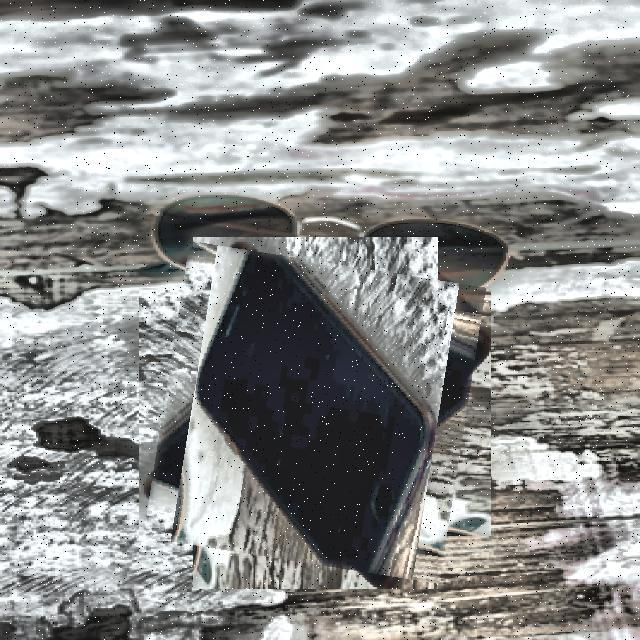Phone: (154, 252, 476, 574)
